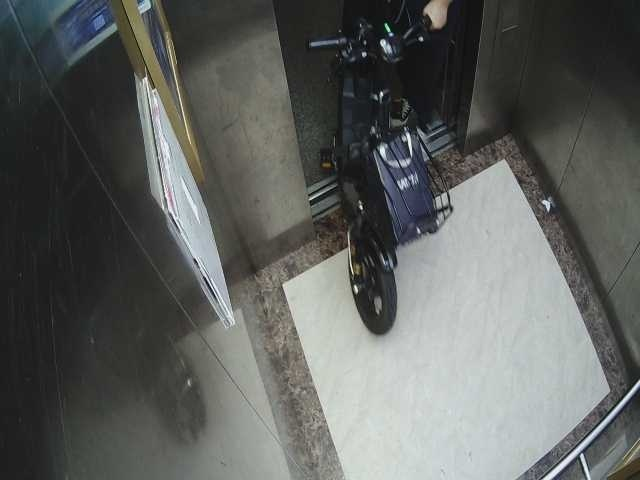emotor: (300, 7, 452, 340)
